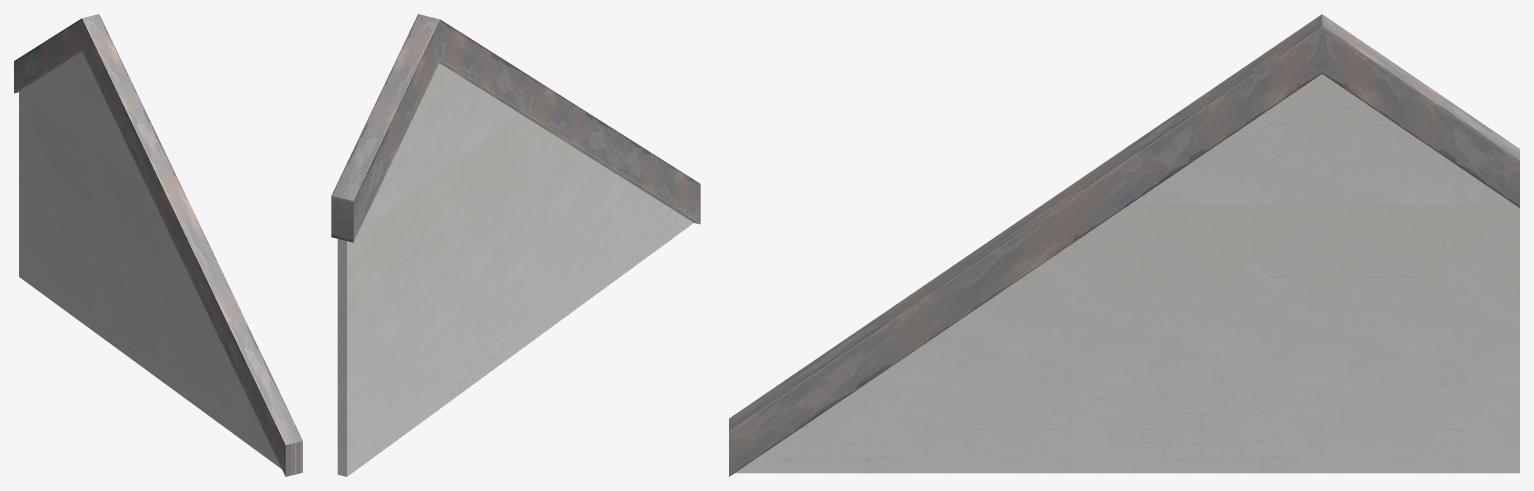
The model's file is sm_building_triwall02_01.fbx.
3 renders of one model, left to right at view 1: azimuth 30°, elevation 25°; view 2: azimuth 150°, elevation 25°; view 3: azimuth 270°, elevation 25°, orthographic. The views are drawn at different scales.
Visible parts, largest first — view 1: sm_building_triwall02_01, sm_building_triwall02_02, sm_building_triwall02_03; view 2: sm_building_triwall02_01, sm_building_triwall02_02, sm_building_triwall02_03; view 3: sm_building_triwall02_01, sm_building_triwall02_02, sm_building_triwall02_03.
Boxes of the visible parts, x1,y1,x2,y2 form: sm_building_triwall02_01: (19, 92, 154, 375); sm_building_triwall02_02: (150, 156, 302, 476); sm_building_triwall02_03: (14, 14, 166, 192); sm_building_triwall02_01: (337, 114, 520, 476); sm_building_triwall02_02: (520, 74, 700, 349); sm_building_triwall02_03: (331, 14, 526, 242); sm_building_triwall02_01: (1124, 204, 1519, 473); sm_building_triwall02_02: (729, 149, 1124, 476); sm_building_triwall02_03: (1124, 14, 1519, 207).
Bounding box in the file's own units: 37.68 × 644 × 1024.
Materials: 1 (1 with a texture image).
